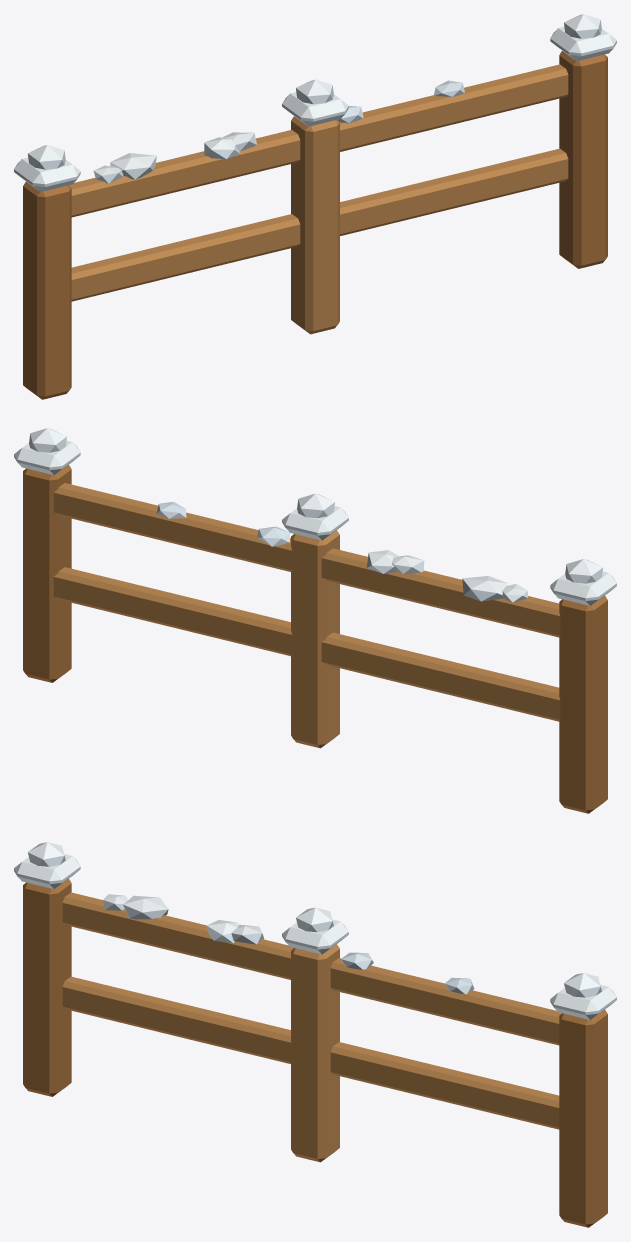
File: snow_fence_2m.glb
3 views of the same model, one above another, from view 1: azimuth 30°, elevation 25°; view 2: azimuth 150°, elevation 25°; view 3: azimuth 330°, elevation 25° (orthographic).
Parts seen in each view (by area): view 1: snow_fence_2m; view 2: snow_fence_2m; view 3: snow_fence_2m.
Boxes of the visible parts, x1,y1,x2,y2 form: snow_fence_2m: (14, 14, 616, 399); snow_fence_2m: (14, 428, 616, 813); snow_fence_2m: (14, 842, 616, 1227).
Bounding box in the file's own units: 2.18 × 0.88 × 0.1889.
